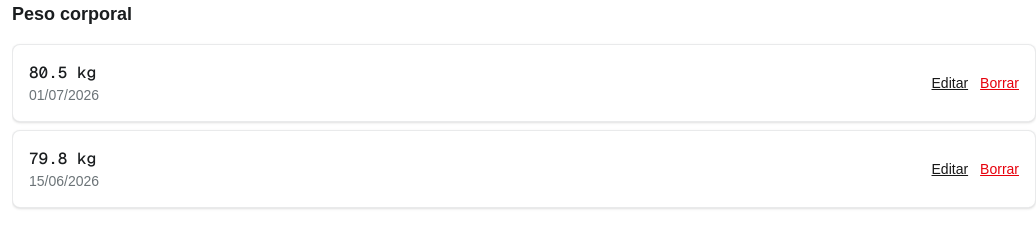
it: WeightHistorySection › muestra un mensaje de error si el borrado confirmado falla
Click the button "Borrar" in the row of "01/07/2026": (1000, 83) x1=980 y1=73 x2=1019 y2=93
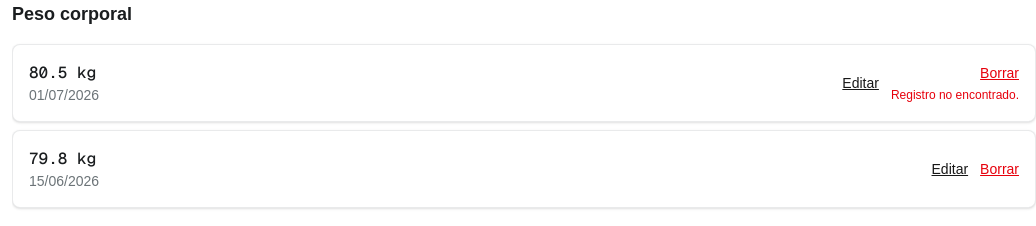
Expected: the text "Registro no encontrado." is shown, x1=891 y1=87 x2=1019 y2=103
